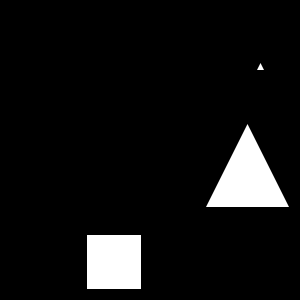circle: (87, 235, 141, 289)
triangle: (206, 124, 289, 207), (257, 63, 264, 70)
